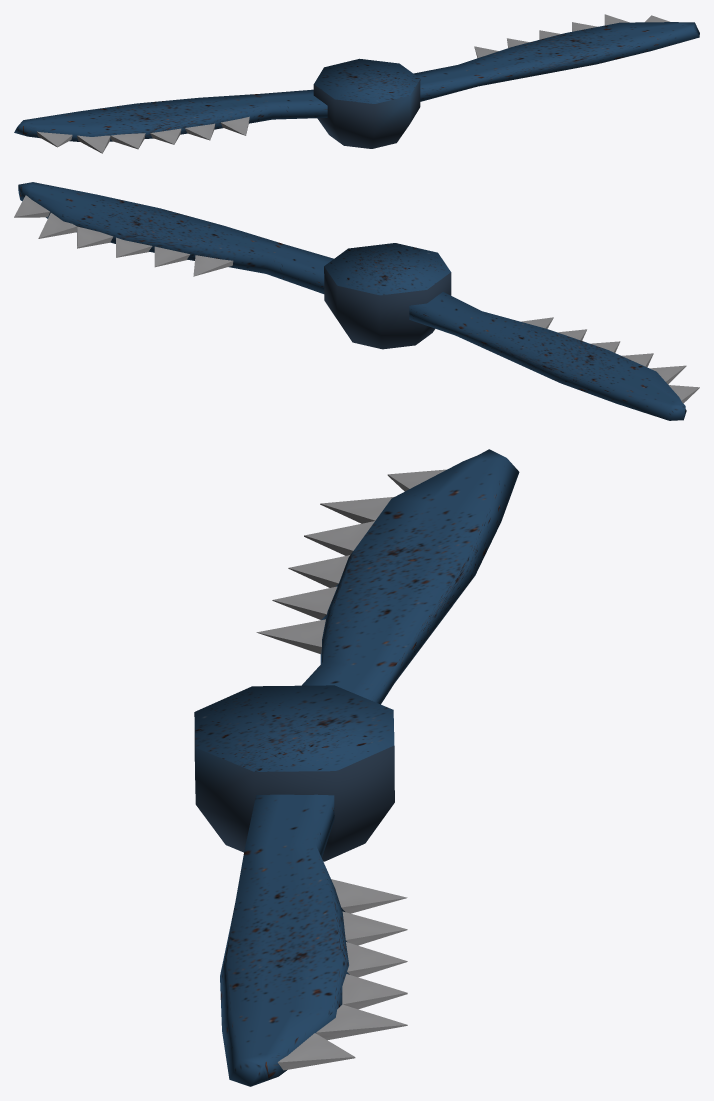
The model's file is Saw_TurnedNormals.fbx.
The picture shows the model from 3 angles, top to bottom: view 1: azimuth 30°, elevation 25°; view 2: azimuth 150°, elevation 25°; view 3: azimuth 270°, elevation 25°; orthographic projection. The views are drawn at different scales.
Parts seen in each view (by area): view 1: TurningSaw; view 2: TurningSaw; view 3: TurningSaw.
Part boxes in pixels (<box>): TurningSaw: <box>14,14,699,153</box>; TurningSaw: <box>14,182,699,420</box>; TurningSaw: <box>194,449,519,1086</box>.
Bounding box in the file's own units: 663 × 53.54 × 150.
2 materials, 2 textured.
